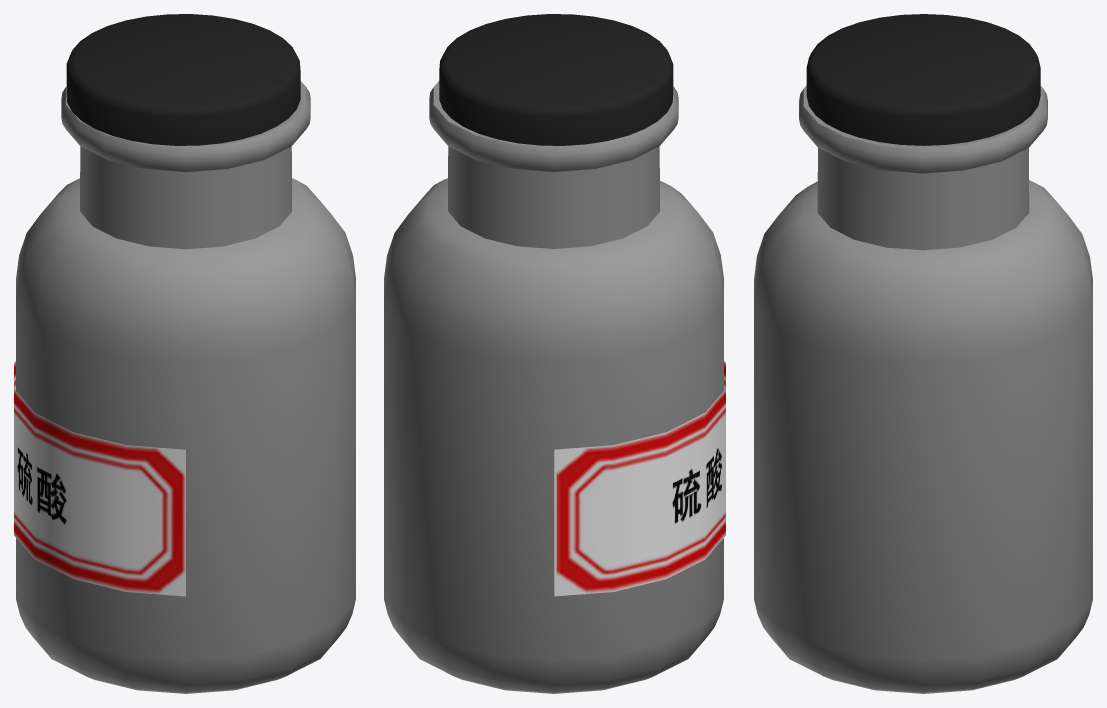
File: SM_G硫酸.FBX
3 renders of one model, left to right at view 1: azimuth 30°, elevation 25°; view 2: azimuth 150°, elevation 25°; view 3: azimuth 270°, elevation 25°, orthographic.
Visible parts, largest first — view 1: SM_G硫酸, SM_G硫酸盖子; view 2: SM_G硫酸, SM_G硫酸盖子; view 3: SM_G硫酸, SM_G硫酸盖子.
Boxes of the visible parts, bbox=[...] form: SM_G硫酸: bbox=[14, 81, 355, 693]; SM_G硫酸盖子: bbox=[66, 14, 300, 145]; SM_G硫酸: bbox=[384, 81, 725, 693]; SM_G硫酸盖子: bbox=[439, 14, 673, 145]; SM_G硫酸: bbox=[754, 85, 1092, 693]; SM_G硫酸盖子: bbox=[806, 14, 1040, 145].
Size of the model in its own units: 4.62 by 4.52 by 8.42.
